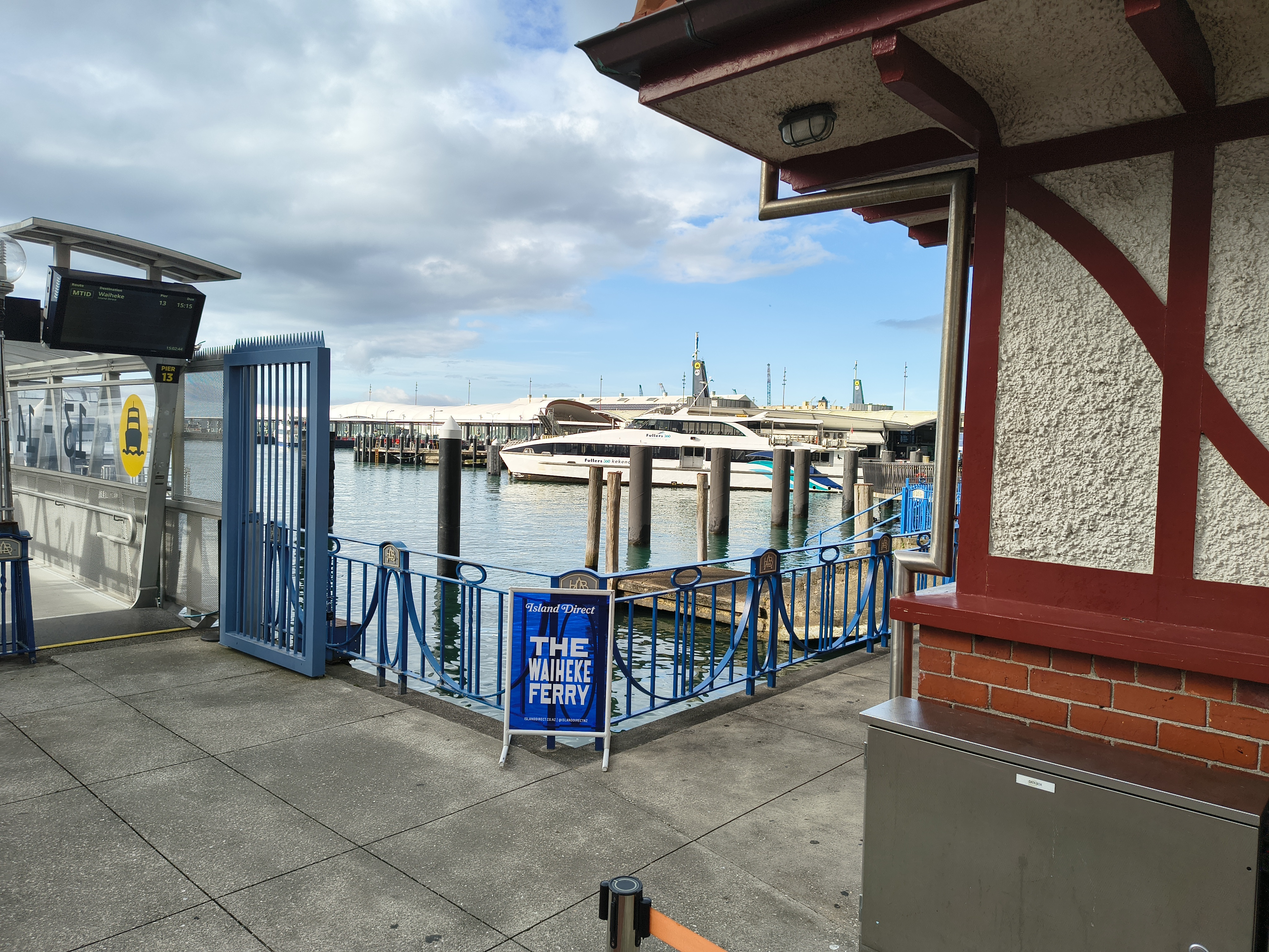ferry: (500, 412, 862, 491)
